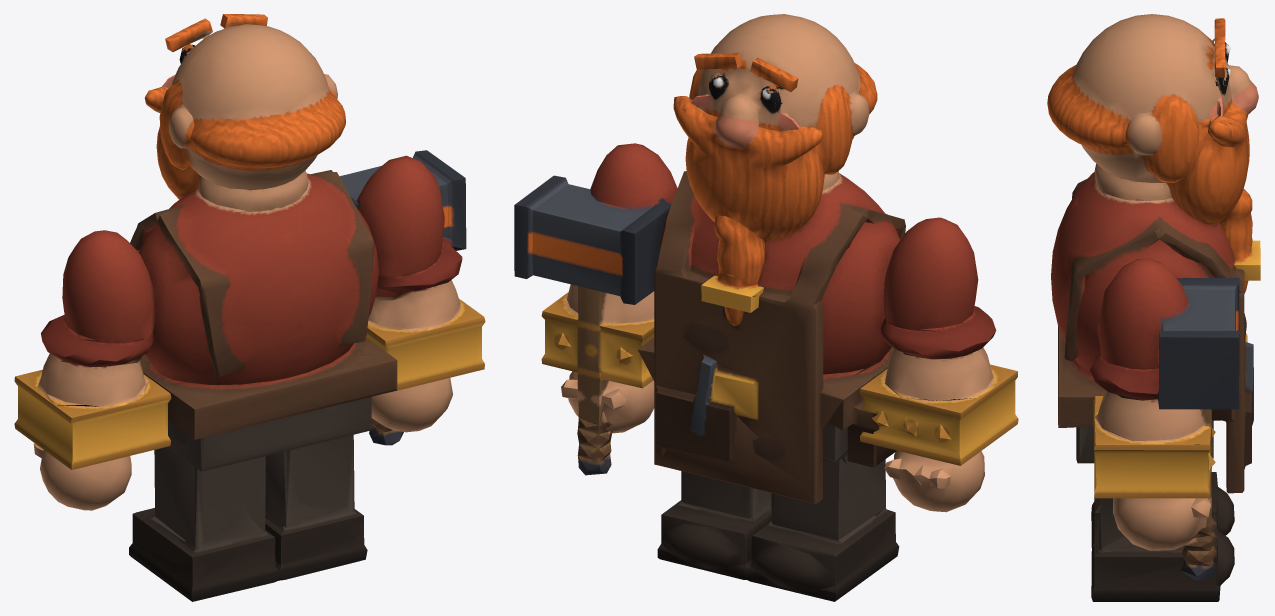
File: Brannoc.fbx
3 views of the same model, side by side, from view 1: azimuth 30°, elevation 25°; view 2: azimuth 150°, elevation 25°; view 3: azimuth 270°, elevation 25° (orthographic).
Parts seen in each view (by area): view 1: Torso, Hips, ArmL, Head, ArmR; view 2: Torso, Head, ArmR, ArmL, Hips; view 3: ArmR, Head, Torso, Hips.
Boxes of the visible parts, <box> form: Torso: <box>130,170,397,439</box>; Hips: <box>129,396,371,601</box>; ArmL: <box>14,230,171,510</box>; Head: <box>144,14,345,199</box>; ArmR: <box>339,150,485,445</box>; Torso: <box>638,171,905,503</box>; Head: <box>673,14,877,326</box>; ArmR: <box>514,143,677,475</box>; ArmL: <box>859,217,1018,512</box>; Hips: <box>657,423,899,601</box>; ArmR: <box>1089,258,1239,579</box>; Head: <box>1047,14,1260,293</box>; Torso: <box>1051,163,1253,493</box>; Hips: <box>1076,419,1234,601</box>.
Size of the model in its own units: 6.93 by 8.2 by 2.95.
Materials: 1 (1 with a texture image).
